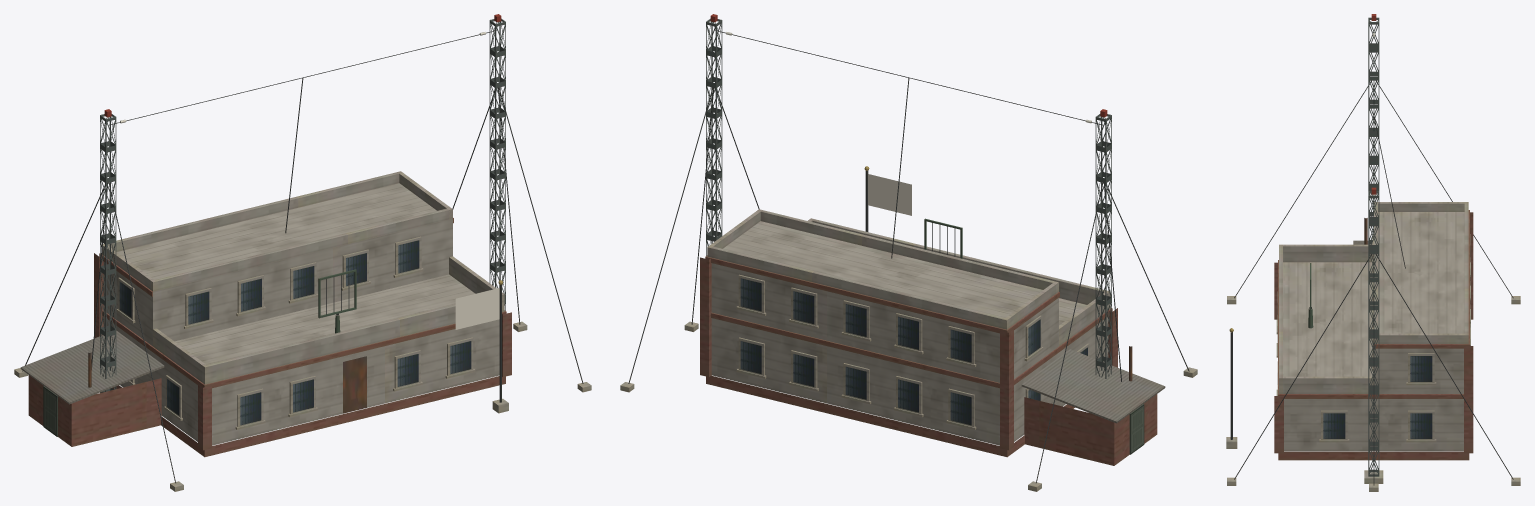
Rendered from listening.glb.
The picture shows the model from 3 angles, left to right: view 1: azimuth 30°, elevation 25°; view 2: azimuth 150°, elevation 25°; view 3: azimuth 270°, elevation 25°; orthographic projection. The views are drawn at different scales.
Parts seen in each view (by area): view 1: station, drapeau, porte, cadre_gonio; view 2: station, drapeau; view 3: station, hampe.
Boxes of the visible parts, x1,y1,x2,y2 form: station: (14,14,591,491); drapeau: (455,288,499,329); porte: (343,356,366,413); cadre_gonio: (318,269,356,318); station: (620,14,1197,491); drapeau: (868,174,911,215); station: (1227,14,1520,491); hampe: (1226,328,1237,448).
Size of the model in its own units: 31.15 by 20.36 by 18.65.
14 materials, 12 textured.
